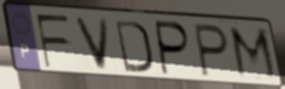D: (113, 18, 154, 75)
F: (34, 13, 72, 70)
M: (226, 24, 282, 84)
P: (192, 21, 232, 80), (154, 18, 193, 78)
V: (72, 15, 111, 74)
